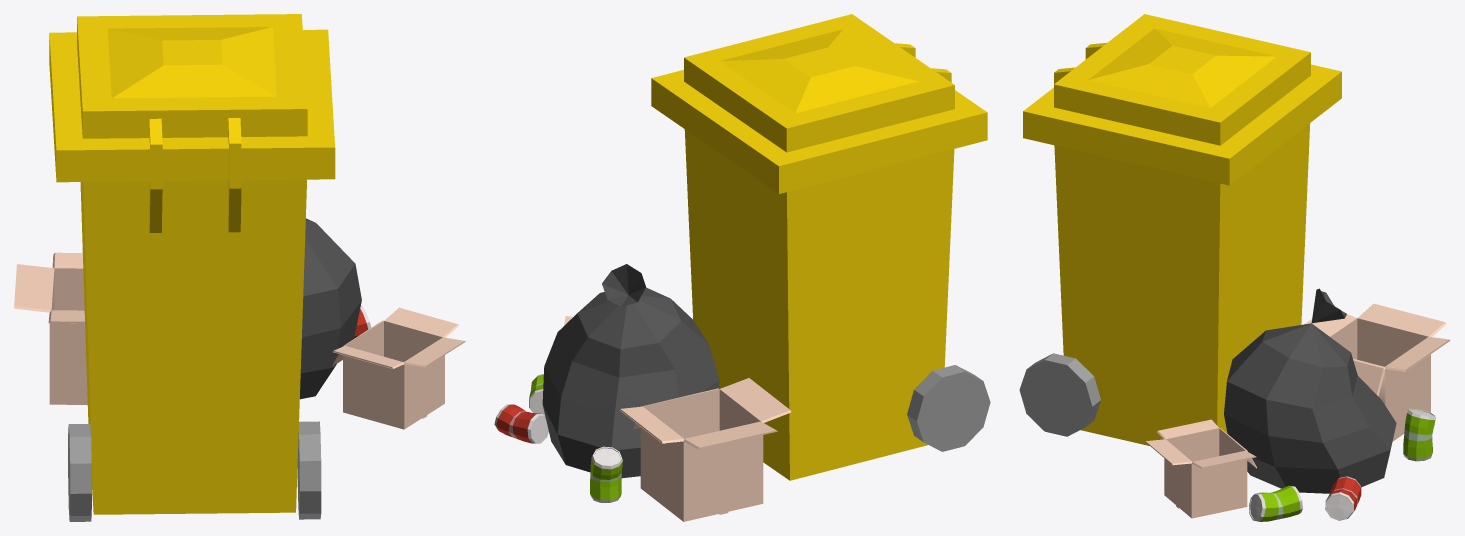
Rendered from poubelle sktech.fbx.
3 renders of one model, left to right at view 1: azimuth 30°, elevation 25°; view 2: azimuth 150°, elevation 25°; view 3: azimuth 270°, elevation 25°, orthographic. The views are drawn at different scales.
Parts seen in each view (by area): view 1: Poubelle_03, Deco_Box00_001, Poubelle, Deco_Box00, Cube_001, Cube_002, Cube_003, Cube_004; view 2: Poubelle_03, Poubelle, Deco_Box00, Cube_002, Cannette_01_001, Cannette_02; view 3: Poubelle_03, Poubelle, Deco_Box00, Deco_Box00_001, Cube_001, Cannette_01, Cannette_01_001, Cannette_02.
Part boxes in pixels (bbox=[...]): Poubelle_03: bbox=[49, 14, 335, 514]; Deco_Box00_001: bbox=[332, 307, 465, 429]; Poubelle: bbox=[300, 218, 361, 399]; Deco_Box00: bbox=[14, 252, 87, 404]; Cube_001: bbox=[297, 421, 321, 519]; Cube_002: bbox=[68, 424, 91, 521]; Cube_003: bbox=[149, 118, 162, 232]; Cube_004: bbox=[228, 118, 241, 232]; Poubelle_03: bbox=[651, 14, 987, 480]; Poubelle: bbox=[542, 264, 719, 478]; Deco_Box00: bbox=[620, 378, 791, 521]; Cube_002: bbox=[907, 365, 990, 451]; Cannette_01_001: bbox=[590, 446, 622, 502]; Cannette_02: bbox=[494, 404, 548, 443]; Poubelle_03: bbox=[1023, 14, 1341, 445]; Poubelle: bbox=[1224, 288, 1396, 493]; Deco_Box00: bbox=[1304, 303, 1450, 441]; Deco_Box00_001: bbox=[1145, 419, 1256, 518]; Cube_001: bbox=[1019, 353, 1100, 436]; Cannette_01: bbox=[1249, 485, 1302, 521]; Cannette_01_001: bbox=[1403, 408, 1435, 461]; Cannette_02: bbox=[1325, 476, 1361, 520].
Size of the model in its own units: 3.23 by 2.97 by 3.22.
